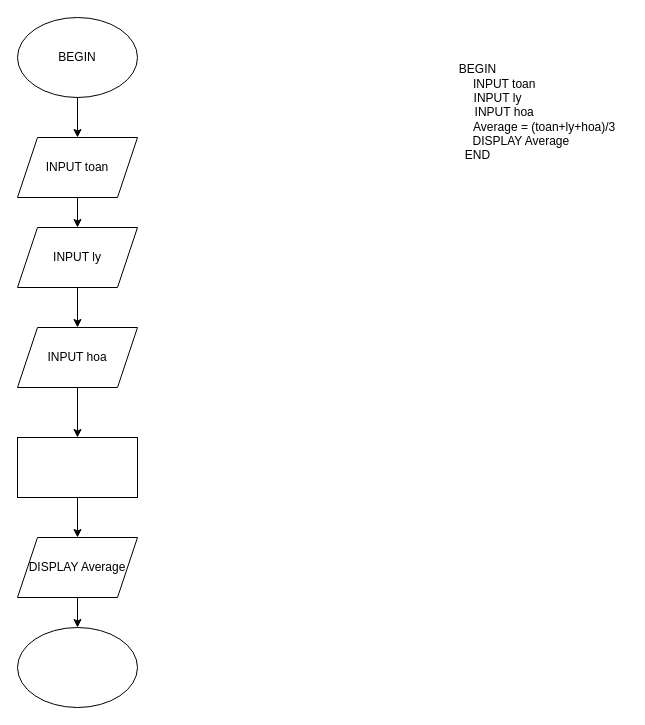
Image size: 645x725. Some labels were removed from this diagram. Each missing label, with the centre of its shape:
Average = (toan + ly + hoa) / 3: point 77,467
END: point 77,667
